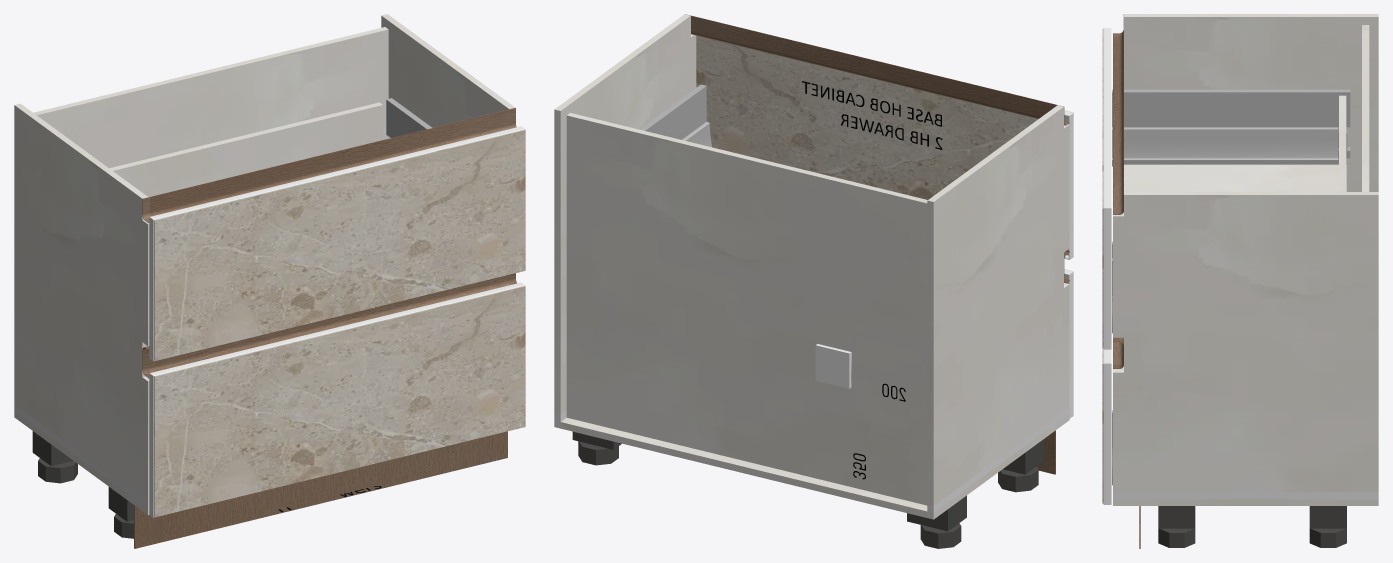
File: BHC2EH_CJ (H720xW900xD560).glb
3 views of the same model, side by side, from view 1: azimuth 30°, elevation 25°; view 2: azimuth 150°, elevation 25°; view 3: azimuth 270°, elevation 25° (orthographic). The views are drawn at different scales.
Size of what is drawn, in the model's own units: 0.9 by 0.82 by 0.5809.
11 materials, 3 textured.
